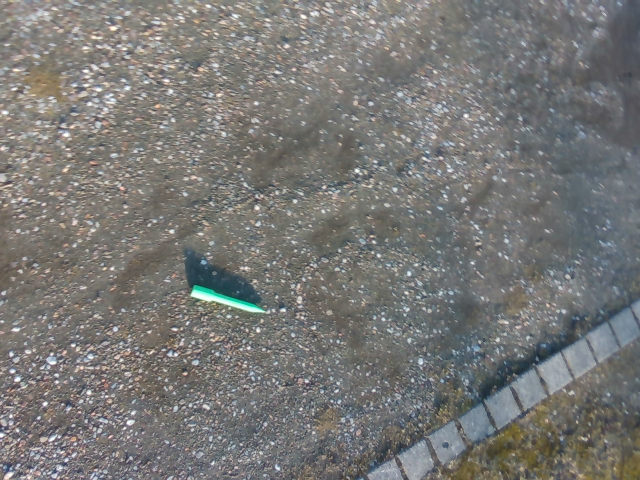Probe: (186, 277, 269, 317)
